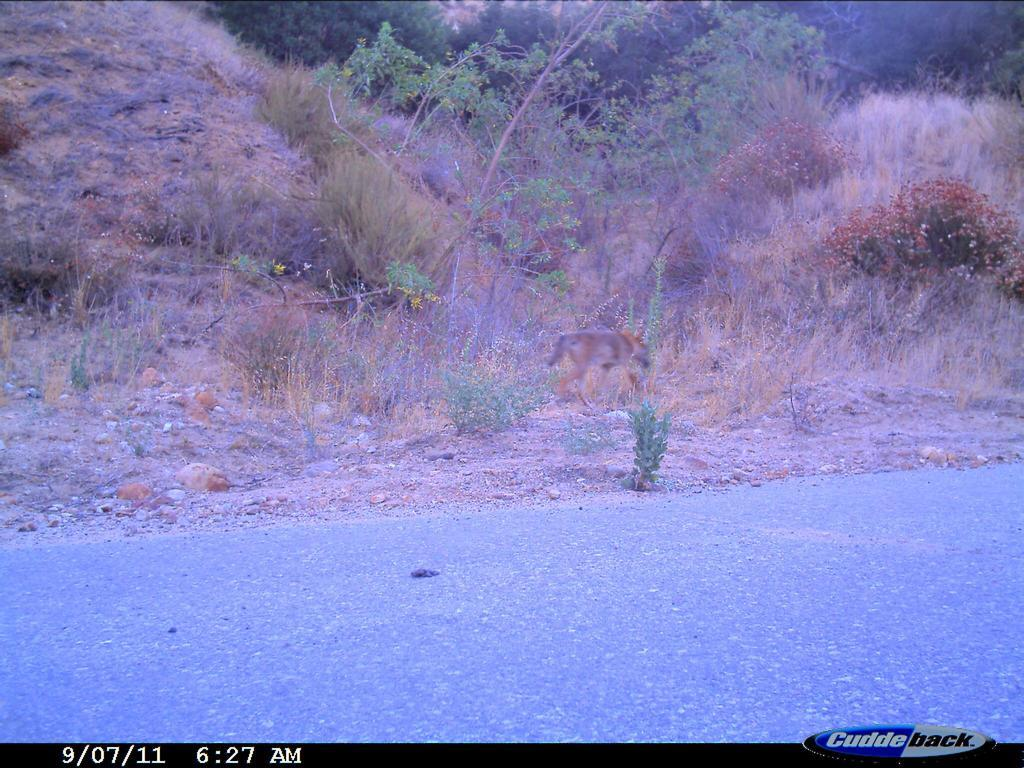coyote: (537, 318, 673, 413)
